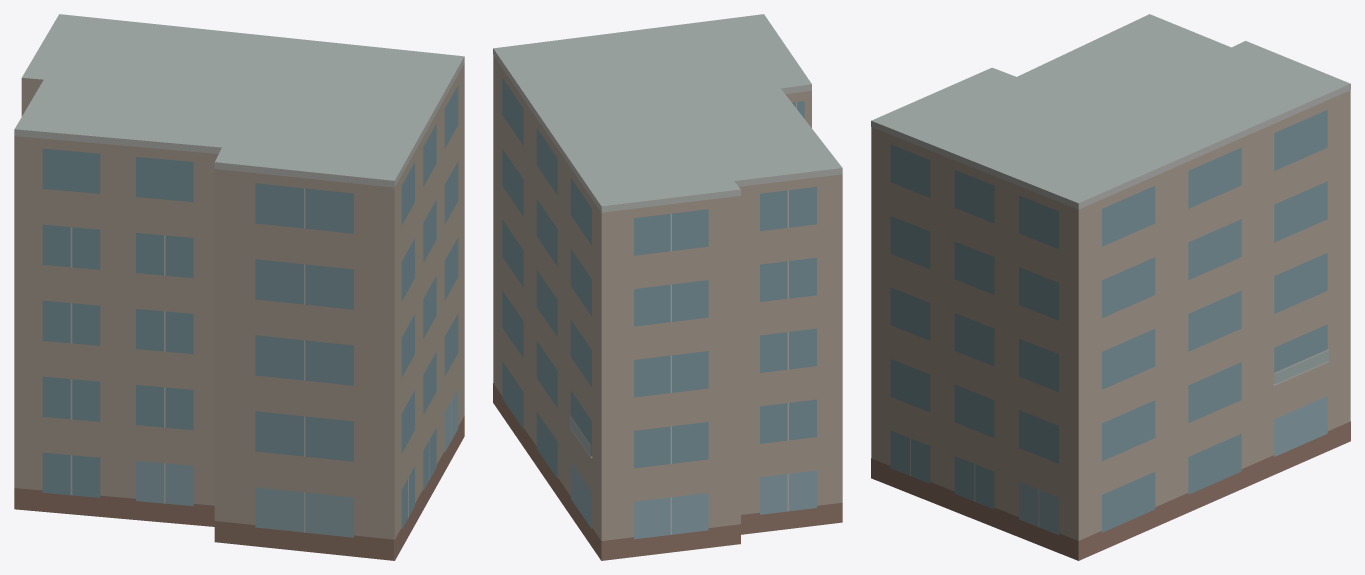
Rendered from survey-upis-33015851.glb.
3 renders of one model, left to right at view 1: azimuth 30°, elevation 25°; view 2: azimuth 150°, elevation 25°; view 3: azimuth 270°, elevation 25°, orthographic. The views are drawn at different scales.
Parts seen in each view (by area): view 1: survey-upis-33015851.tmp; view 2: survey-upis-33015851.tmp; view 3: survey-upis-33015851.tmp.
Part boxes in pixels (box(x1,y1,x2,y2)): survey-upis-33015851.tmp: box(14, 14, 464, 560); survey-upis-33015851.tmp: box(493, 14, 842, 560); survey-upis-33015851.tmp: box(871, 14, 1350, 560).
Size of the model in its own units: 15.57 by 13.7 by 16.66.
